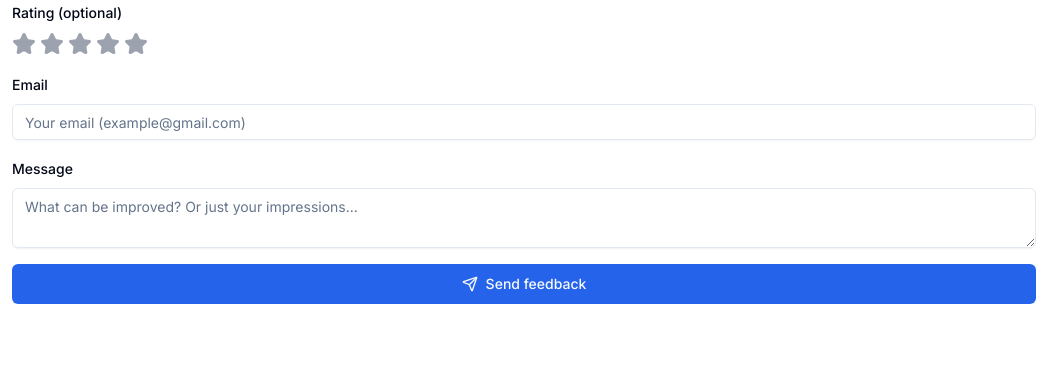
FeedbackForm › shows validation errors for short message
The width and height of the screenshot is (1048, 369).
Type "short" into the text box with placeholder "What can be improved? Or just your impressions..." at (524, 218), box left=12, top=188, right=1036, bottom=248
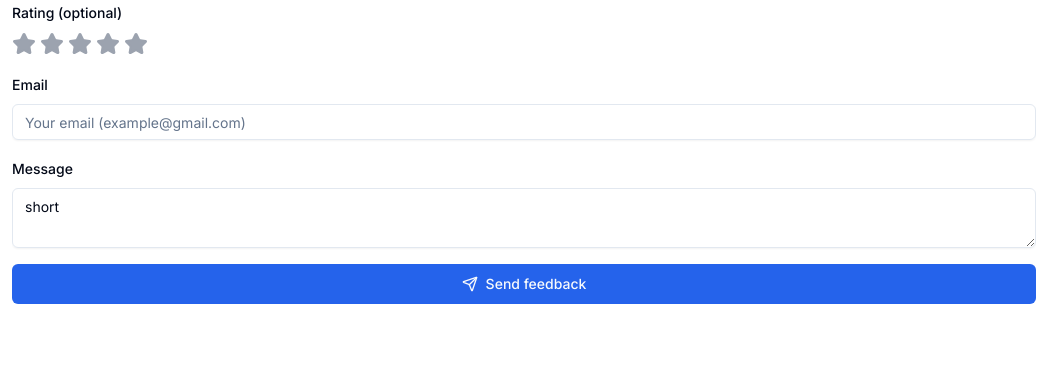
Click the button "Send feedback" at (524, 284), box left=12, top=264, right=1036, bottom=304
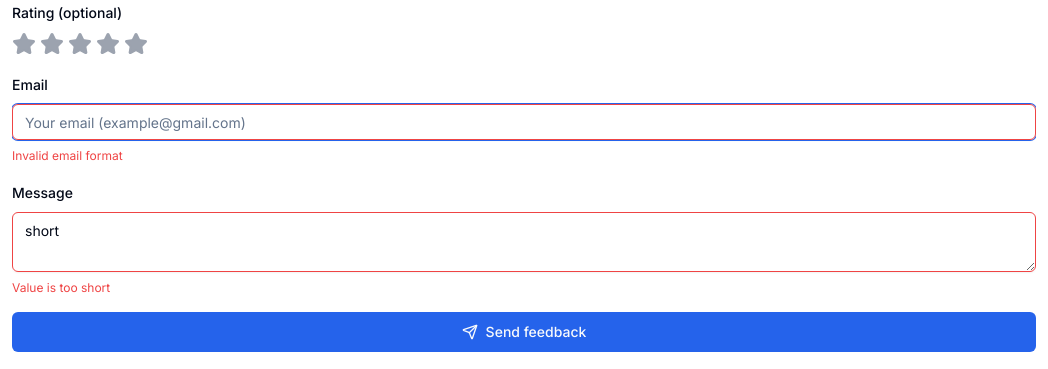
Expected: the text "Value is too short" is shown, left=12, top=280, right=110, bottom=295
